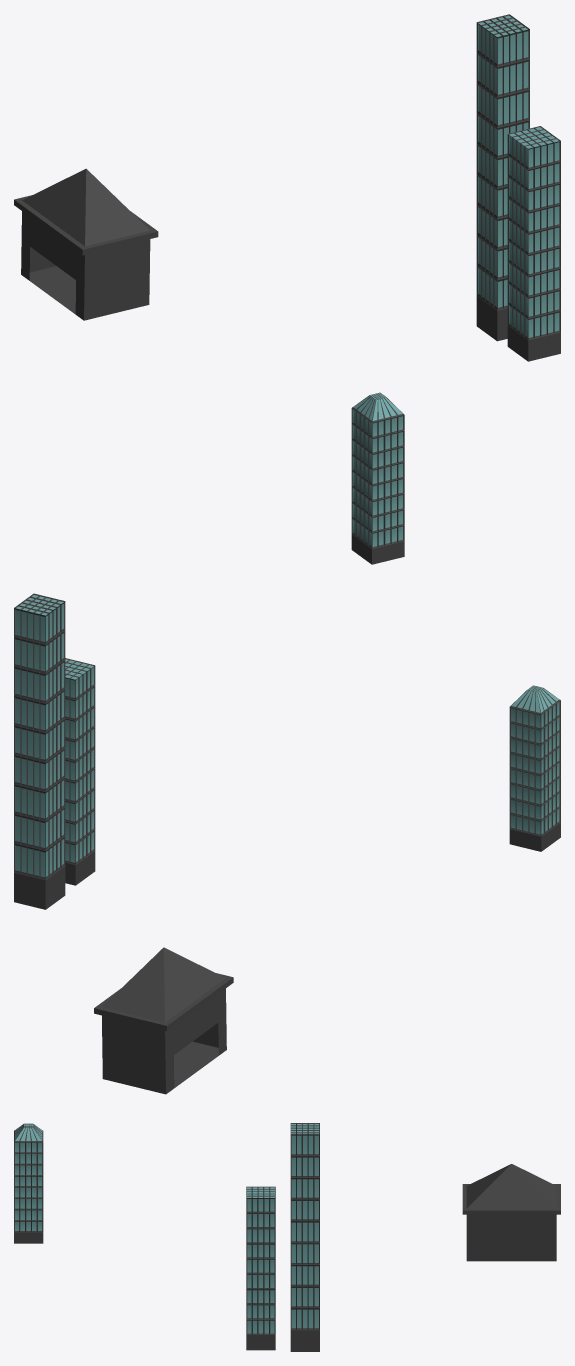
File: building.fbx
The picture shows the model from 3 angles, top to bottom: view 1: azimuth 30°, elevation 25°; view 2: azimuth 150°, elevation 25°; view 3: azimuth 270°, elevation 25°; orthographic projection. The views are drawn at different scales.
Parts seen in each view (by area): view 1: pCube3, pCube1, pasted__pCube1, pasted__pasted__pCube1; view 2: pCube1, pCube3, pasted__pasted__pCube1, pasted__pCube1; view 3: pCube3, pCube1, pasted__pCube1, pasted__pasted__pCube1.
Part boxes in pixels (x1,y1,x2,y2): pCube3: [14, 168, 158, 320]; pCube1: [476, 14, 529, 341]; pasted__pCube1: [507, 126, 560, 361]; pasted__pasted__pCube1: [351, 392, 404, 564]; pCube1: [14, 593, 65, 909]; pCube3: [94, 947, 233, 1094]; pasted__pasted__pCube1: [509, 685, 560, 851]; pasted__pCube1: [65, 658, 95, 885]; pCube3: [462, 1164, 560, 1261]; pCube1: [290, 1123, 319, 1351]; pasted__pCube1: [246, 1186, 275, 1350]; pasted__pasted__pCube1: [14, 1123, 43, 1243].
Bounding box in the file's own units: 10.72 × 8.98 × 20.21.
